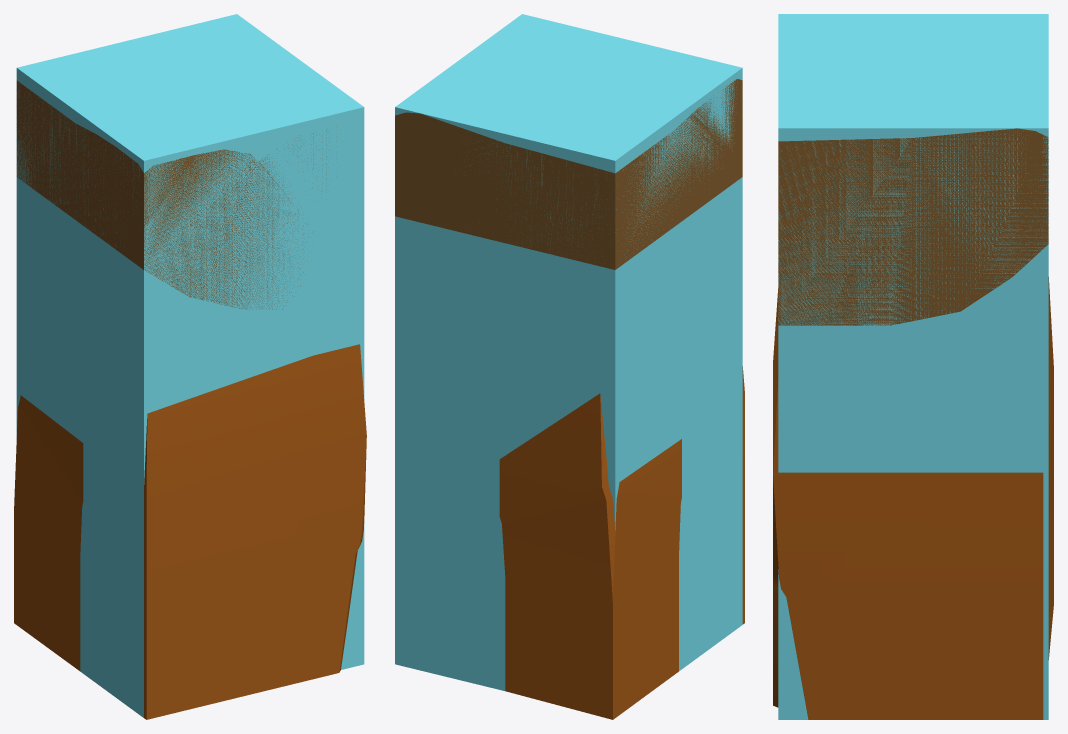
Rendered from PBOX1_Mud_02.FBX.
The picture shows the model from 3 angles, left to right: view 1: azimuth 30°, elevation 25°; view 2: azimuth 150°, elevation 25°; view 3: azimuth 270°, elevation 25°; orthographic projection. The views are drawn at different scales.
Parts seen in each view (by area): view 1: PBOX1_Mud_02, PBOX1_SUB_TAB_MUD_004, PBOX1_SUB_Mud_02; view 2: PBOX1_Mud_02, PBOX1_SUB_TAB_MUD_004, PBOX1_SUB_Mud_02; view 3: PBOX1_Mud_02, PBOX1_SUB_TAB_MUD_004, PBOX1_SUB_Mud_02.
Boxes of the visible parts, x1,y1,x2,y2 form: PBOX1_Mud_02: (16, 14, 364, 717); PBOX1_SUB_TAB_MUD_004: (14, 344, 366, 719); PBOX1_SUB_Mud_02: (16, 80, 336, 309); PBOX1_Mud_02: (395, 14, 742, 690); PBOX1_SUB_TAB_MUD_004: (499, 366, 744, 719); PBOX1_SUB_Mud_02: (395, 79, 742, 269); PBOX1_Mud_02: (778, 14, 1048, 719); PBOX1_SUB_TAB_MUD_004: (773, 277, 1053, 719); PBOX1_SUB_Mud_02: (778, 128, 1048, 325).
Size of the model in its own units: 6.01 by 14.5 by 6.24.
